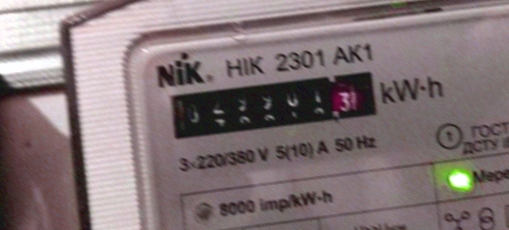0: (282, 80, 299, 106), (182, 98, 201, 121)
1: (307, 78, 323, 102)
2: (207, 92, 225, 113)
3: (335, 86, 350, 109)
9: (257, 85, 274, 108), (233, 88, 247, 111)
screen: (154, 57, 387, 147)
